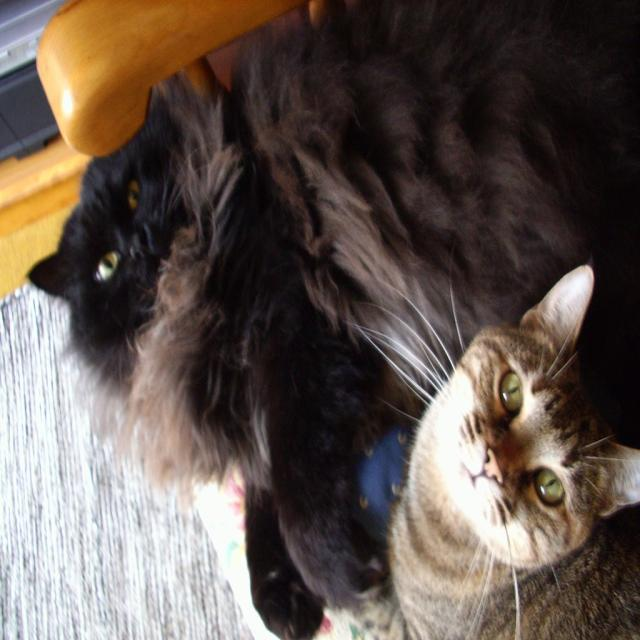Cat: (20, 0, 639, 639), (348, 262, 640, 639)
